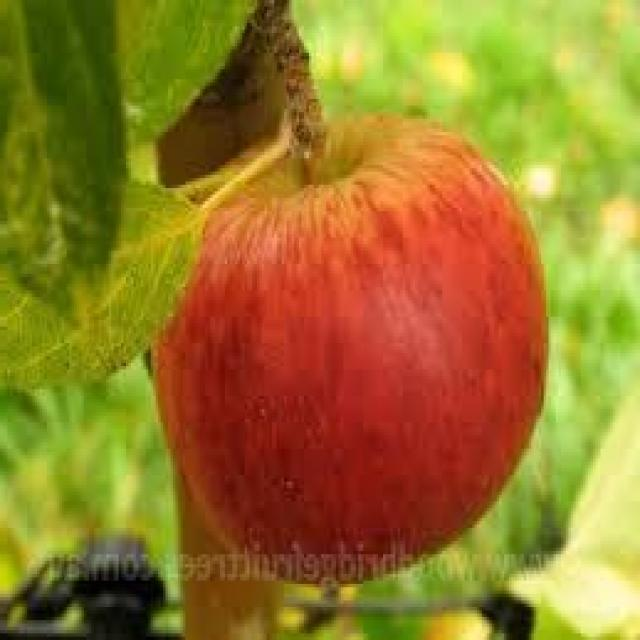apple: (153, 115, 548, 579)
